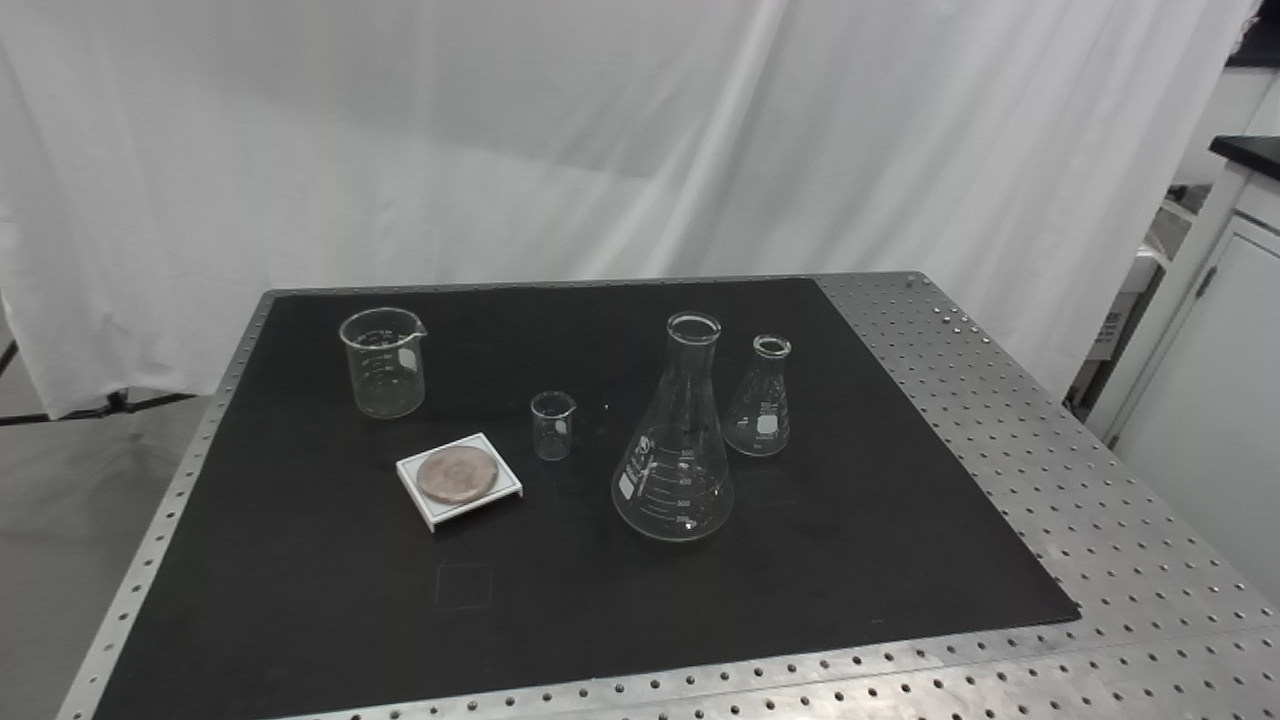plate: (610, 310, 736, 546), (391, 433, 525, 537), (338, 305, 429, 427), (721, 335, 794, 460), (526, 388, 577, 464)
